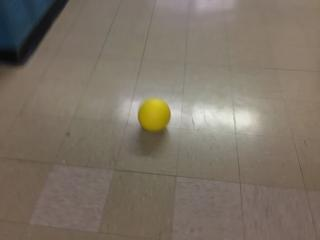power_cell: (137, 97, 176, 137)
